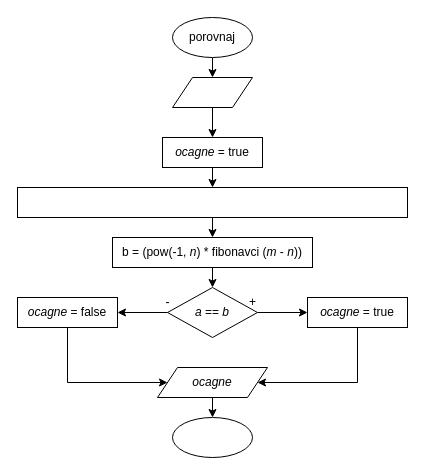
Image size: 425x475. Some labels were removed from this diagram. The centre of each missing label's shape, as x and y in pixels:
a = (fibonacci( m ) * fibonacci( n + 1)) - (fibonacci( m + 1) * fibonacci( n )): point (212, 202)
Koniec: point (212, 437)
m , n: point (212, 92)
